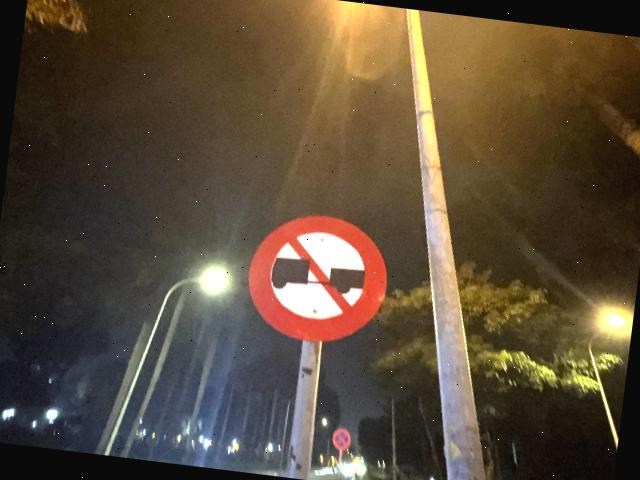cam-xe-somi-romooc: (241, 207, 394, 350)
